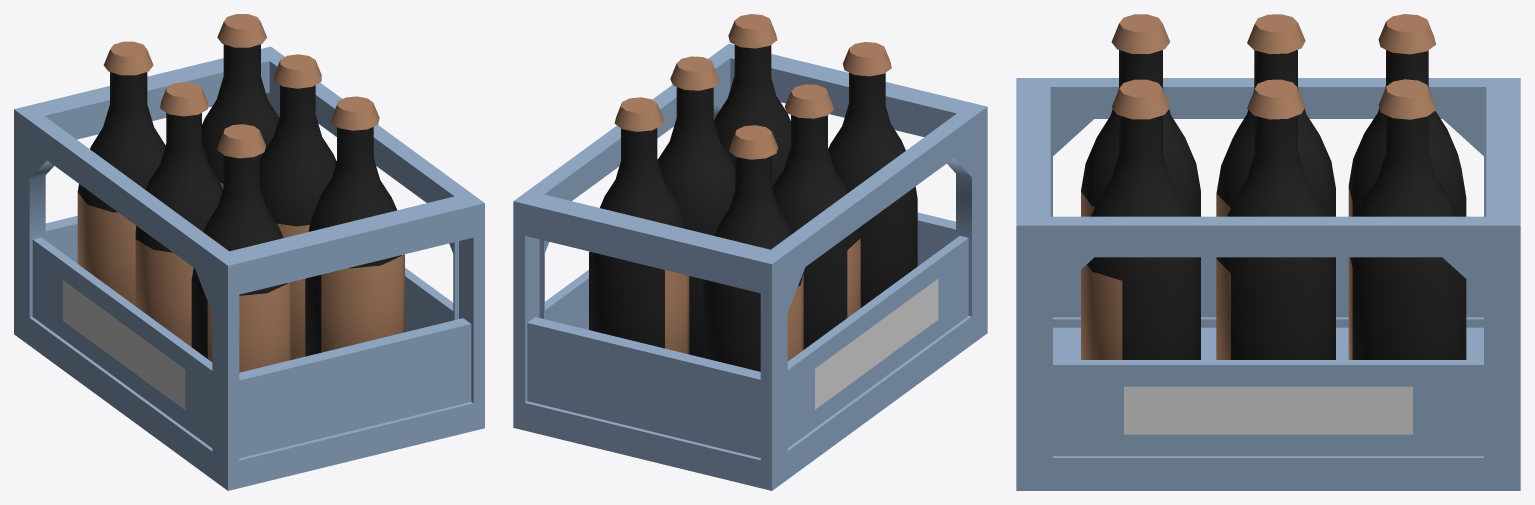
The model's file is bottles.glb.
3 views of the same model, side by side, from view 1: azimuth 30°, elevation 25°; view 2: azimuth 150°, elevation 25°; view 3: azimuth 270°, elevation 25° (orthographic). The views are drawn at different scales.
Parts seen in each view (by area): view 1: Environment_Bottles; view 2: Environment_Bottles; view 3: Environment_Bottles.
Part boxes in pixels (bbox=[...]): Environment_Bottles: bbox=[14, 14, 484, 490]; Environment_Bottles: bbox=[513, 14, 987, 490]; Environment_Bottles: bbox=[1016, 14, 1520, 490].
Size of the model in its own units: 0.9032 by 1.02 by 1.3.
1 material, 1 textured.
